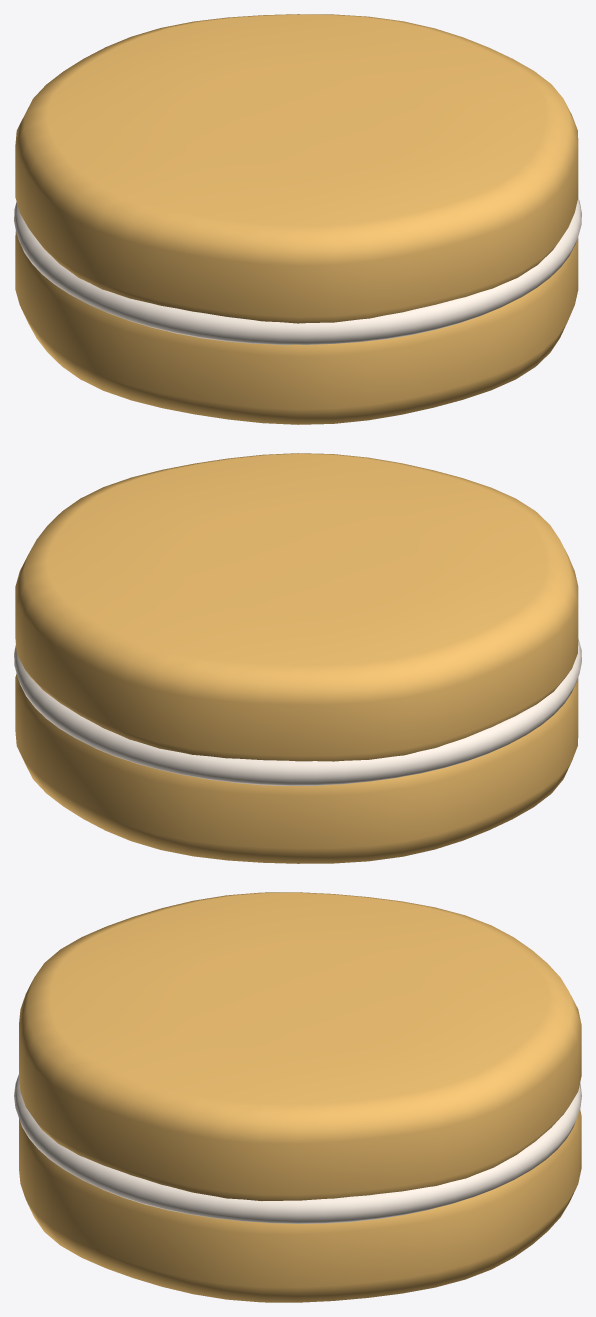
File: CakeSponge.obj
3 renders of one model, top to bottom at view 1: azimuth 30°, elevation 25°; view 2: azimuth 150°, elevation 25°; view 3: azimuth 270°, elevation 25°, orthographic.
Visible parts, largest first — view 1: Sponge, Filling; view 2: Sponge, Filling; view 3: Sponge, Filling.
Part boxes in pixels (bbox=[...]): Sponge: bbox=[15, 14, 578, 424]; Filling: bbox=[14, 198, 581, 344]; Sponge: bbox=[15, 453, 578, 863]; Filling: bbox=[14, 639, 581, 785]; Sponge: bbox=[19, 892, 581, 1302]; Filling: bbox=[14, 1074, 581, 1223].
Size of the model in its own units: 3.23 by 1.25 by 3.23.
